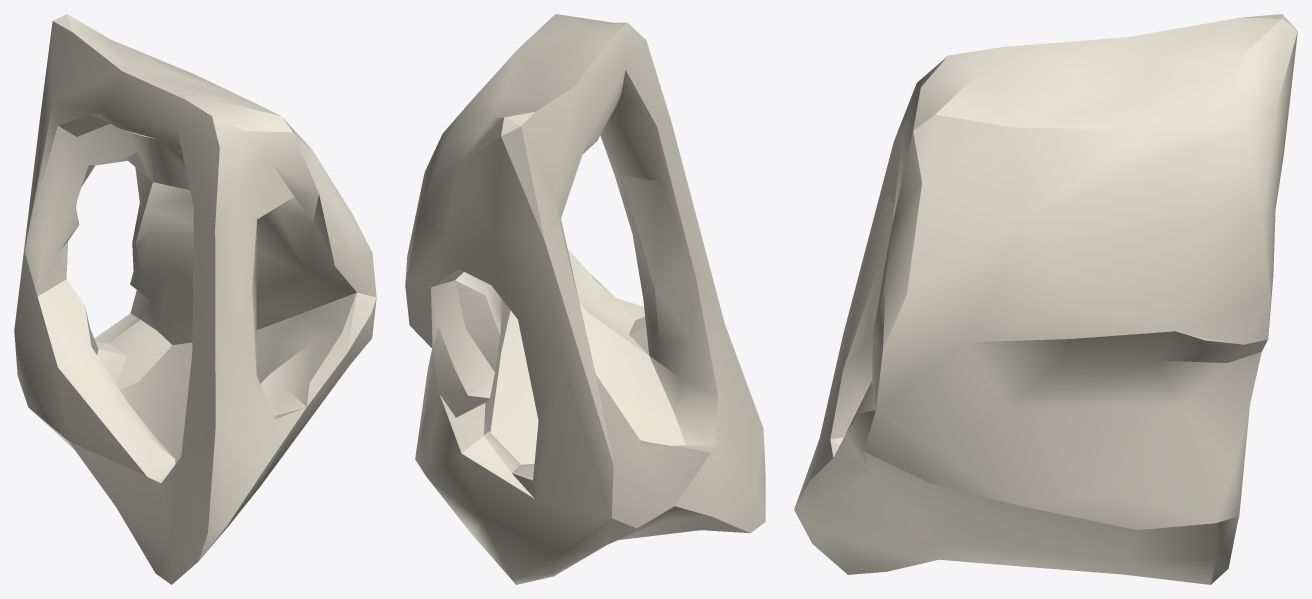
Rendered from fma57470_mm768.glb.
3 renders of one model, left to right at view 1: azimuth 30°, elevation 25°; view 2: azimuth 150°, elevation 25°; view 3: azimuth 270°, elevation 25°, orthographic. The views are drawn at different scales.
Visible parts, largest first — view 1: FMA57470_MM768; view 2: FMA57470_MM768; view 3: FMA57470_MM768.
Boxes of the visible parts, <box> form: FMA57470_MM768: <box>14,14,376,584</box>; FMA57470_MM768: <box>405,14,765,584</box>; FMA57470_MM768: <box>794,14,1297,584</box>.
Size of the model in its own units: 0.0105 by 0.0188 by 0.0144.
